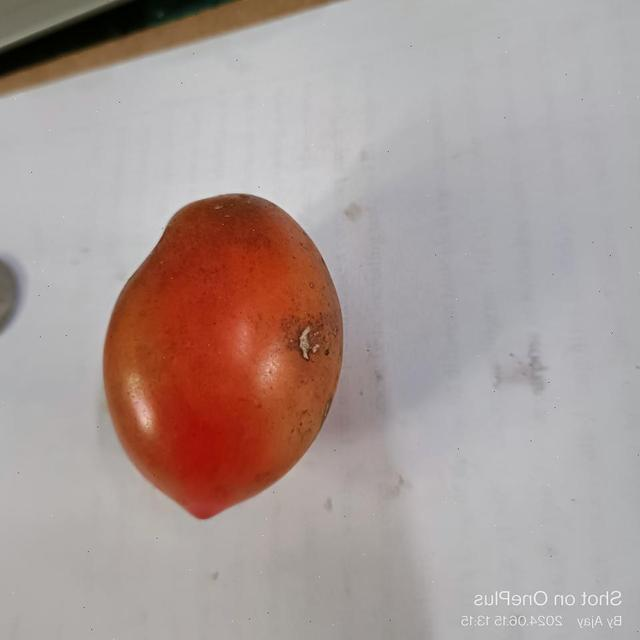Bacterial Spot Fruit: (198, 216, 213, 240)
